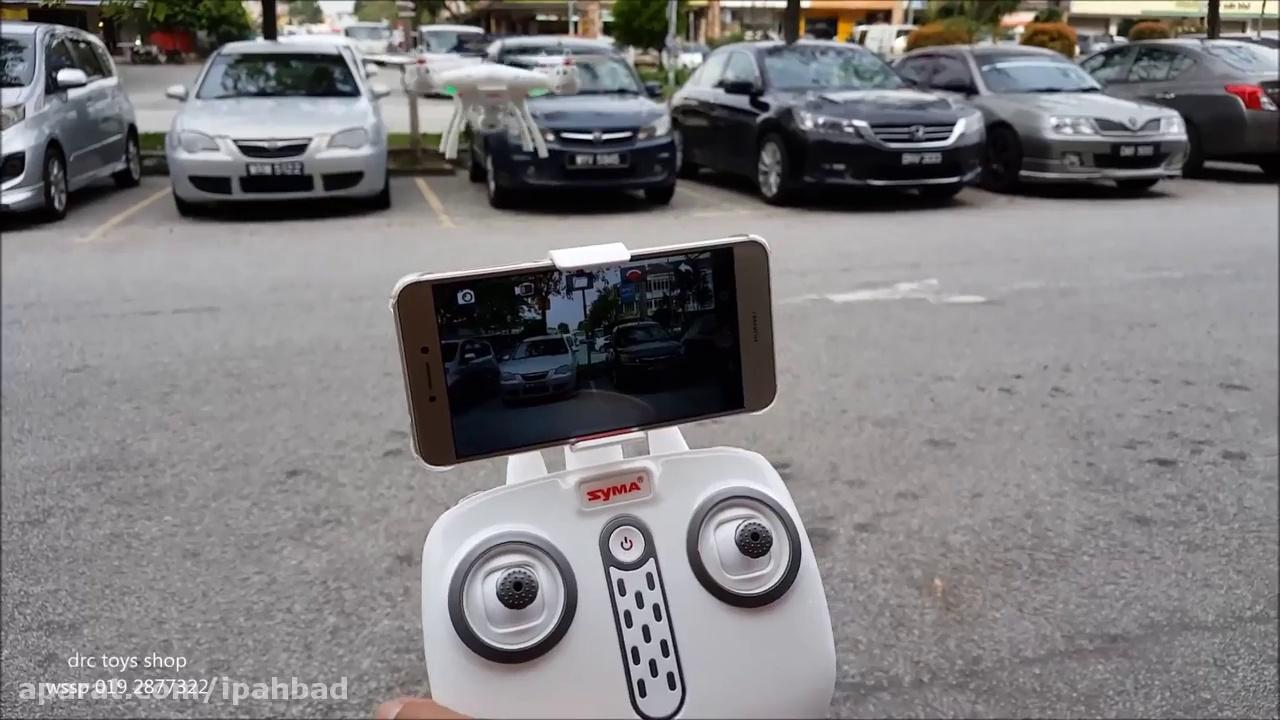drone: (369, 45, 610, 157)
